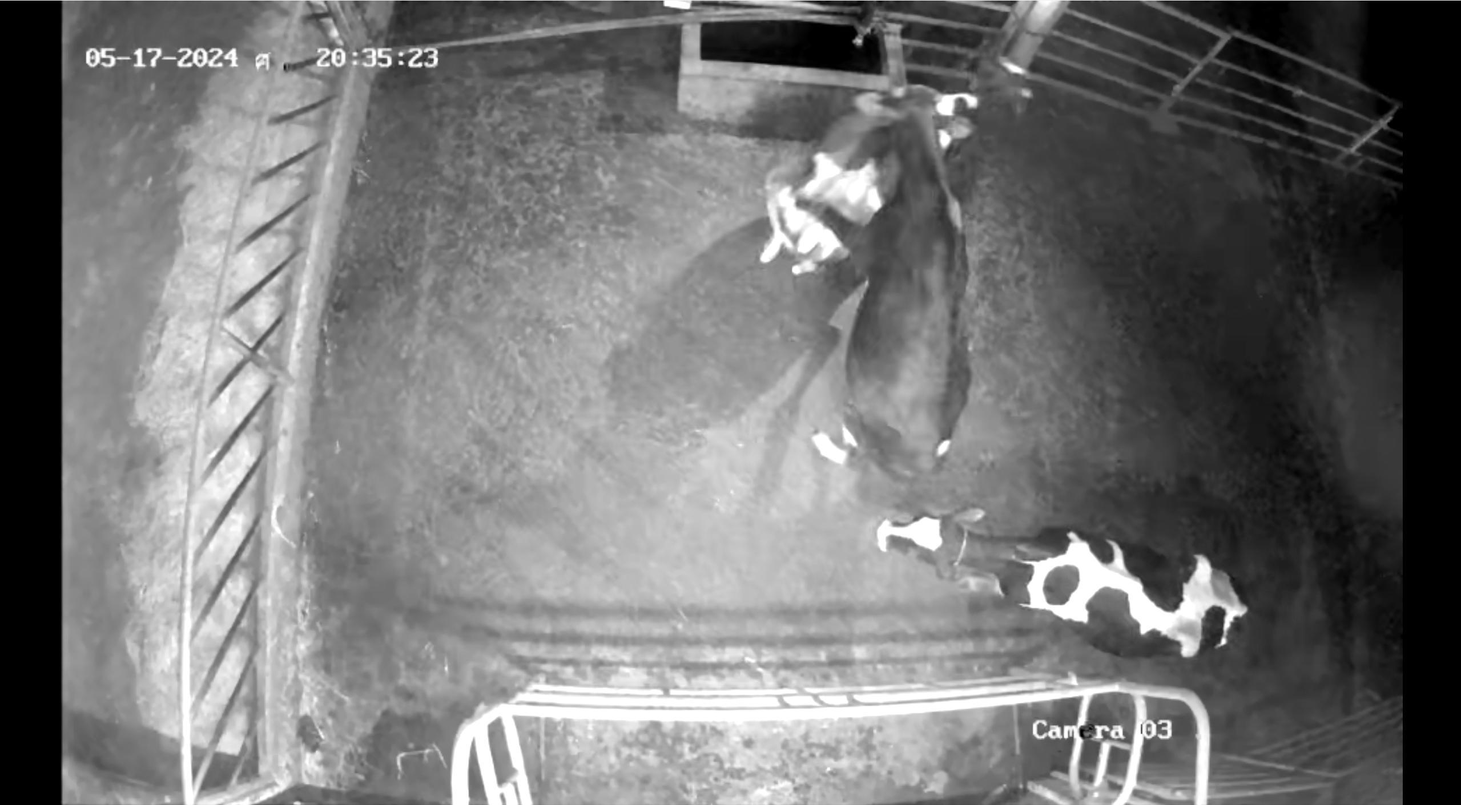ride: (804, 91, 996, 501)
stand: (869, 504, 1262, 664), (755, 72, 977, 266)
